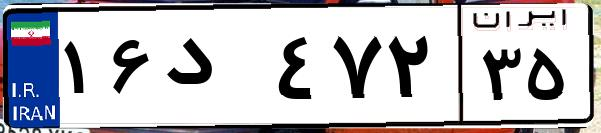1: (57, 26, 110, 100)
2: (385, 28, 445, 110)
3: (475, 38, 525, 113)
4: (270, 28, 330, 110)
5: (525, 38, 570, 115)
6: (110, 28, 158, 98)
7: (330, 28, 385, 110)
د: (158, 20, 270, 120)
